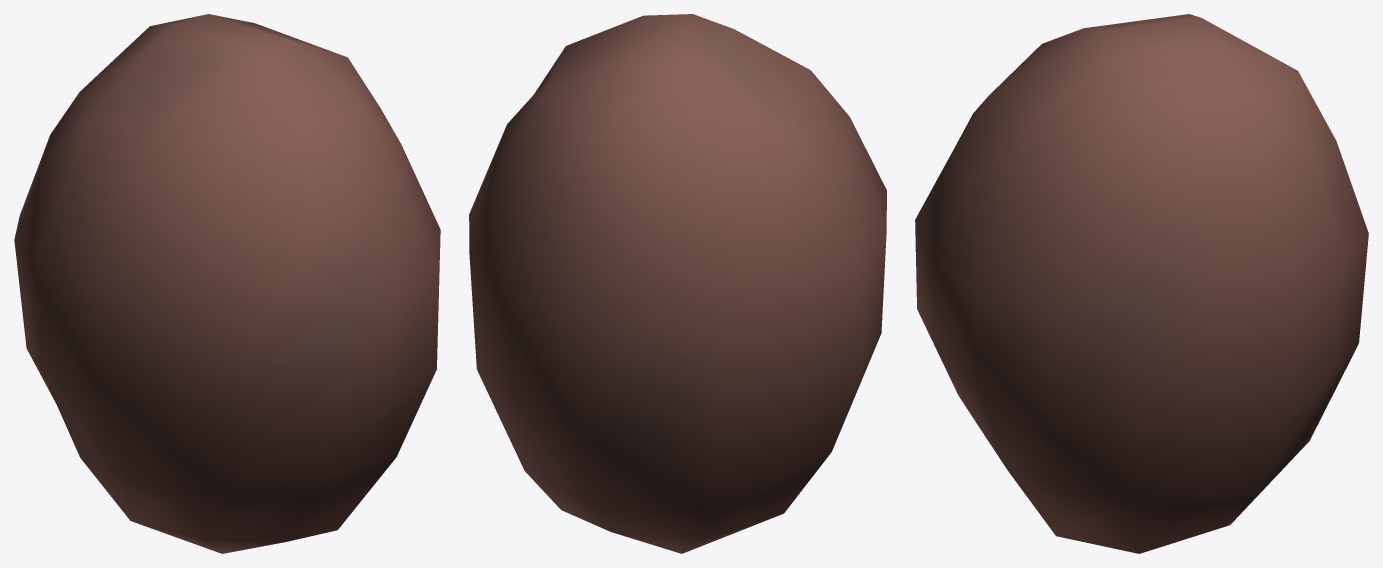
Rendered from patato_001.fbx.
3 views of the same model, side by side, from view 1: azimuth 30°, elevation 25°; view 2: azimuth 150°, elevation 25°; view 3: azimuth 270°, elevation 25° (orthographic).
Visible parts, largest first — view 1: patato_001; view 2: patato_001; view 3: patato_001.
Part boxes in pixels (box(x1,y1,x2,y2)): patato_001: box(14, 14, 440, 553); patato_001: box(469, 14, 886, 553); patato_001: box(915, 14, 1368, 553).
Bounding box in the file's own units: 8.05 × 8.5 × 10.68.
